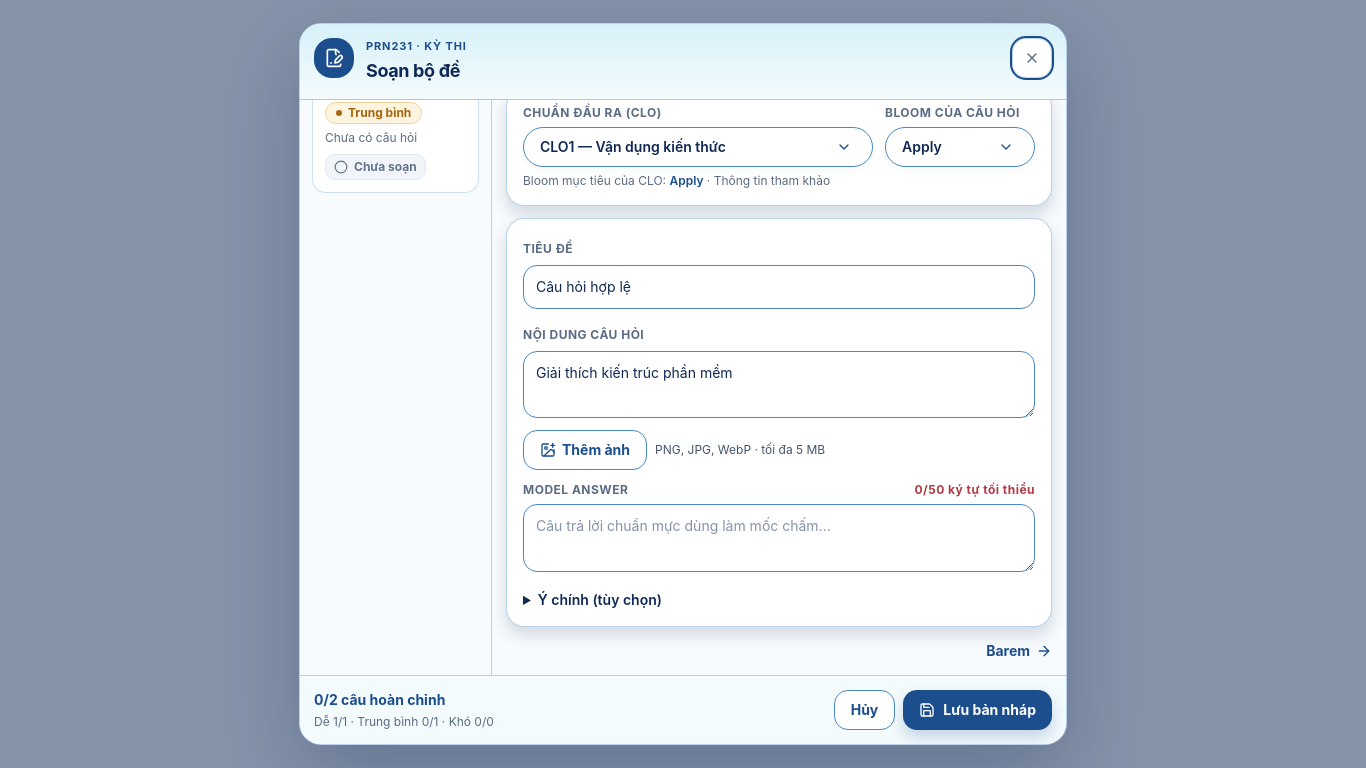
it: Soạn bộ đề với các tab cố định › validates each rubric criterion and reports errors beside fields after blur
Earlier steps of the test are not shown.
(page scrolled)
Type "Đáp án mẫu đầy đủ, giải thích khái niệm và đưa ra ví dụ thực tế rõ ràng." into the text box labelled "Model Answer" at [779, 538], box [523,504,1035,572]
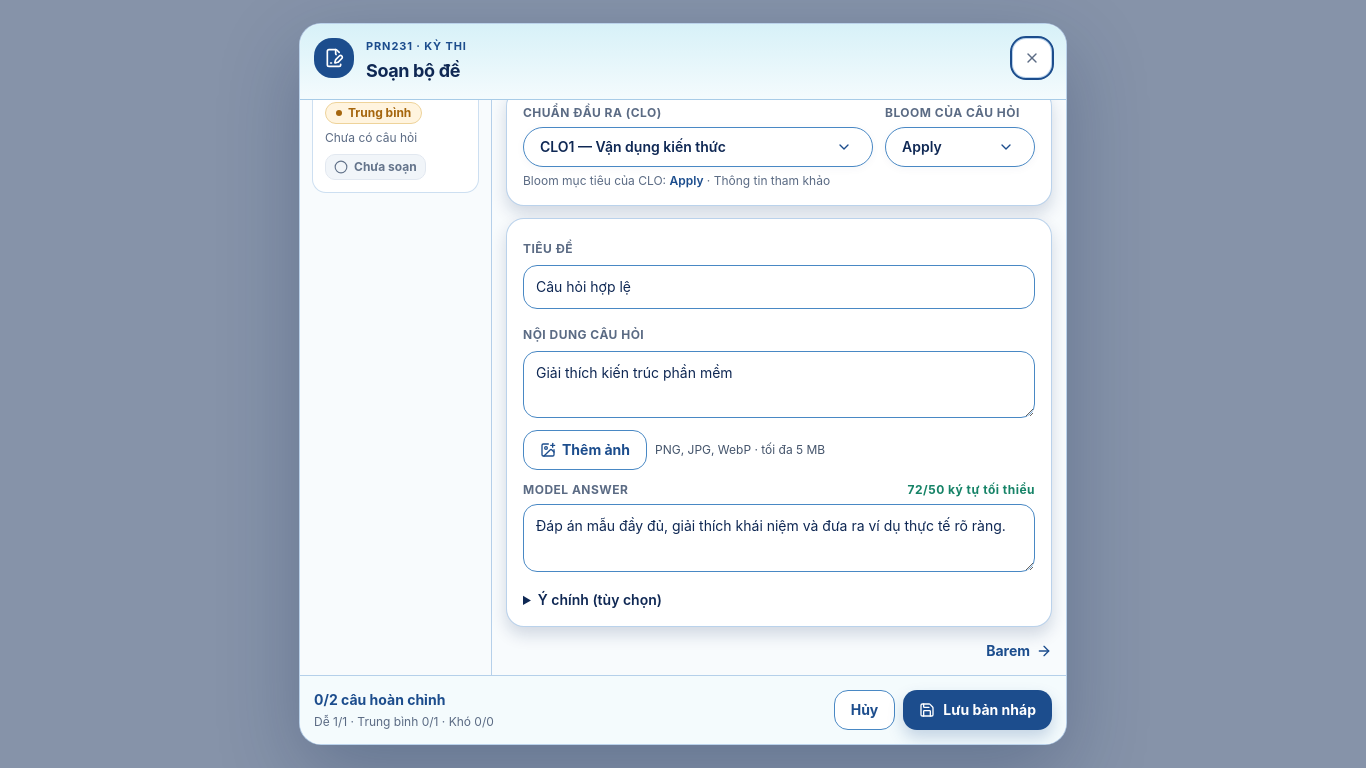
Click the button "Barem" at [1019, 650], box [986,634,1052,666]
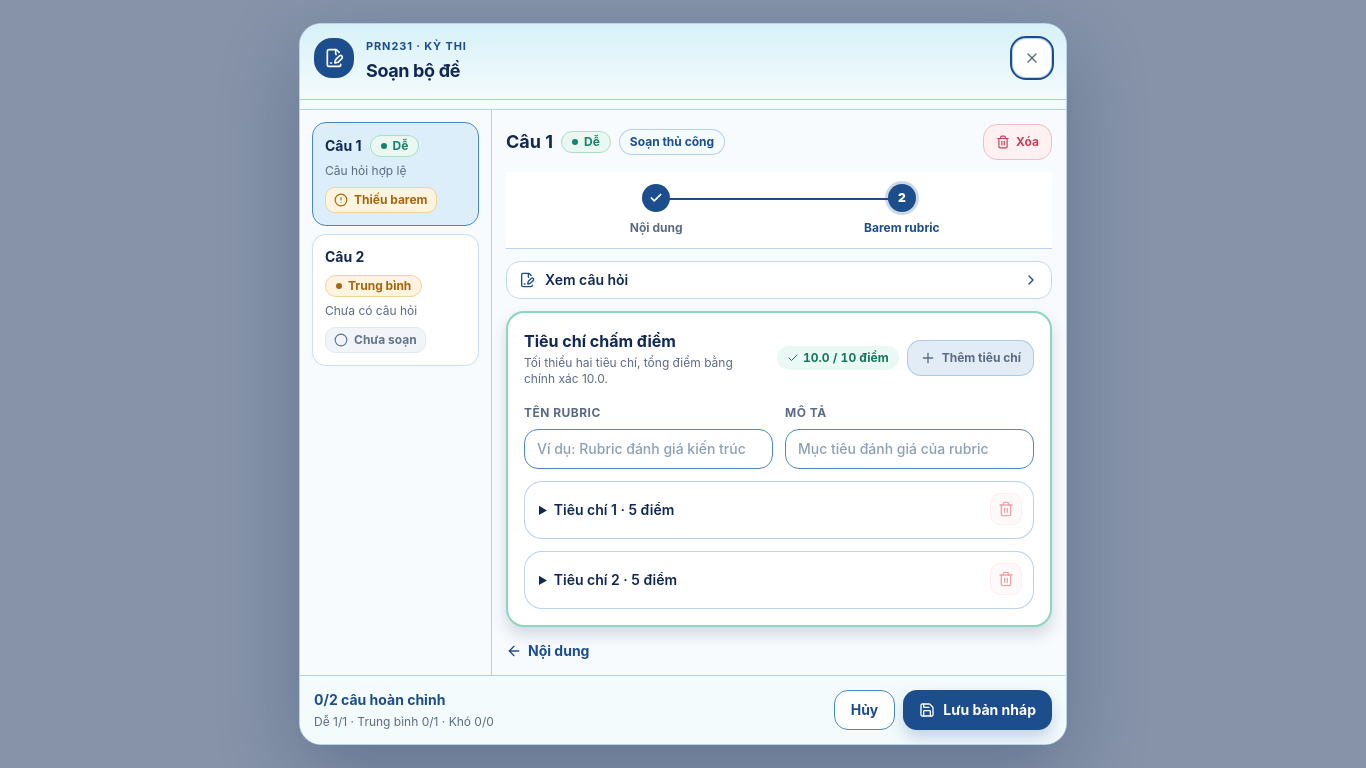
Leave the field labelled "Tên rubric", box [524,428,773,468]
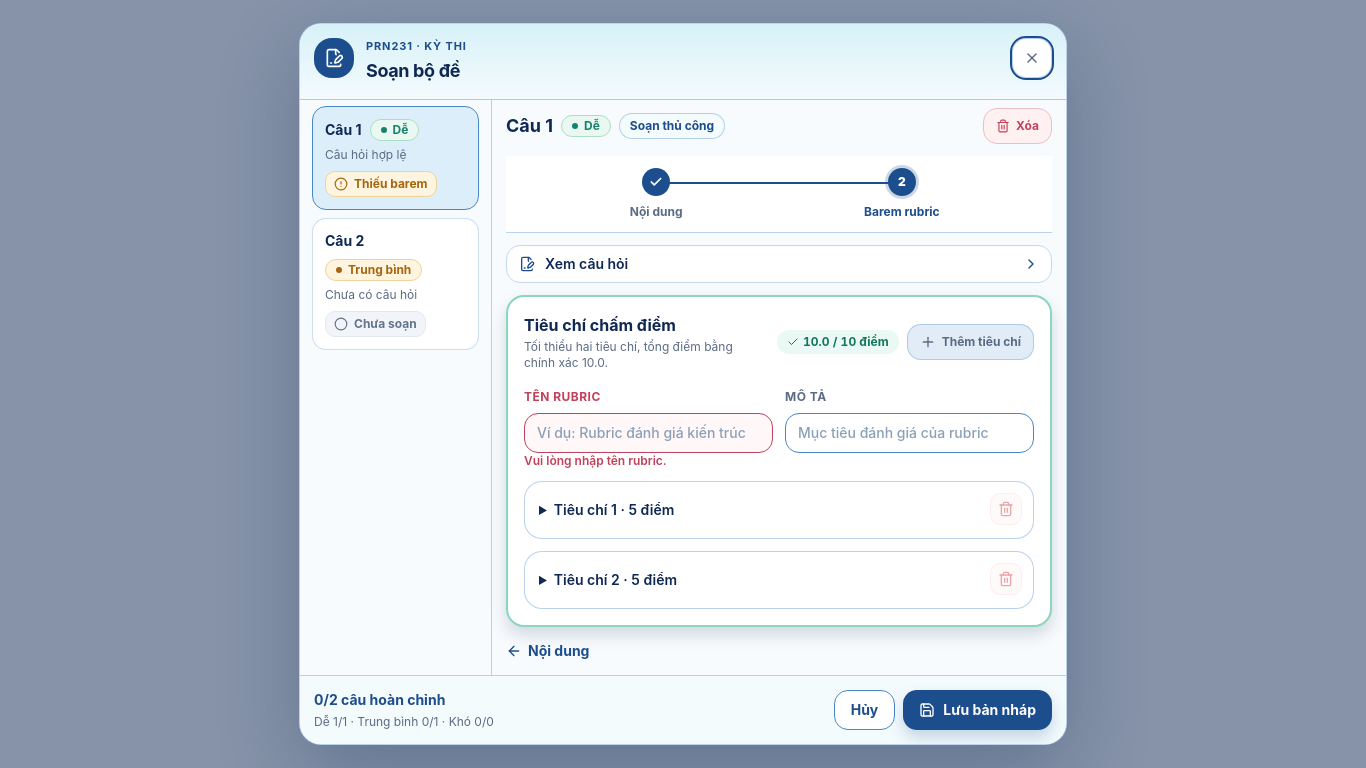
expect the text "Vui lòng nhập tên rubric." is shown: met, box [524,452,667,468]
Leave the field named "Tiêu chí 1", box [524,480,1034,538]
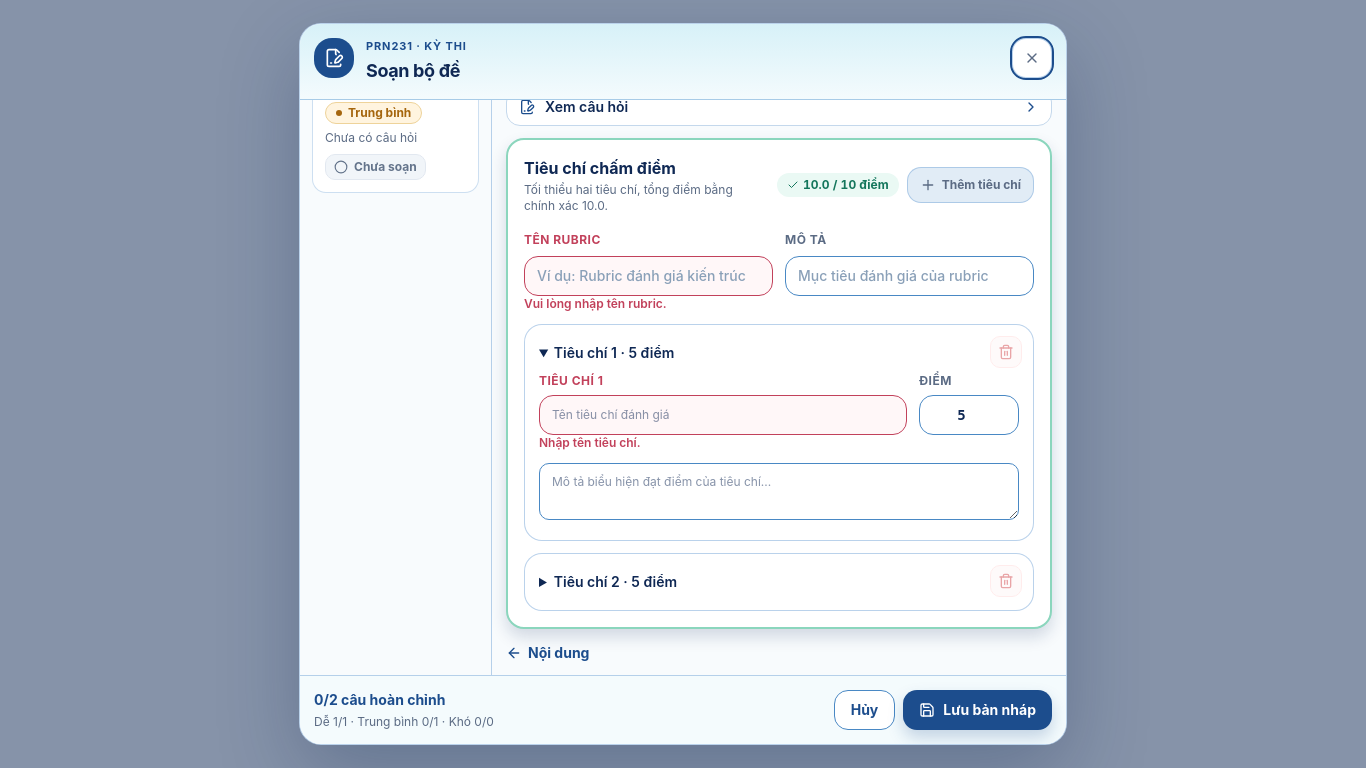
expect the text "Nhập tên tiêu chí." is shown: met, box [539,434,641,450]
Replace the text in the number field labelled "Điểm" with "11" at [969, 414], box [919,394,1019,434]
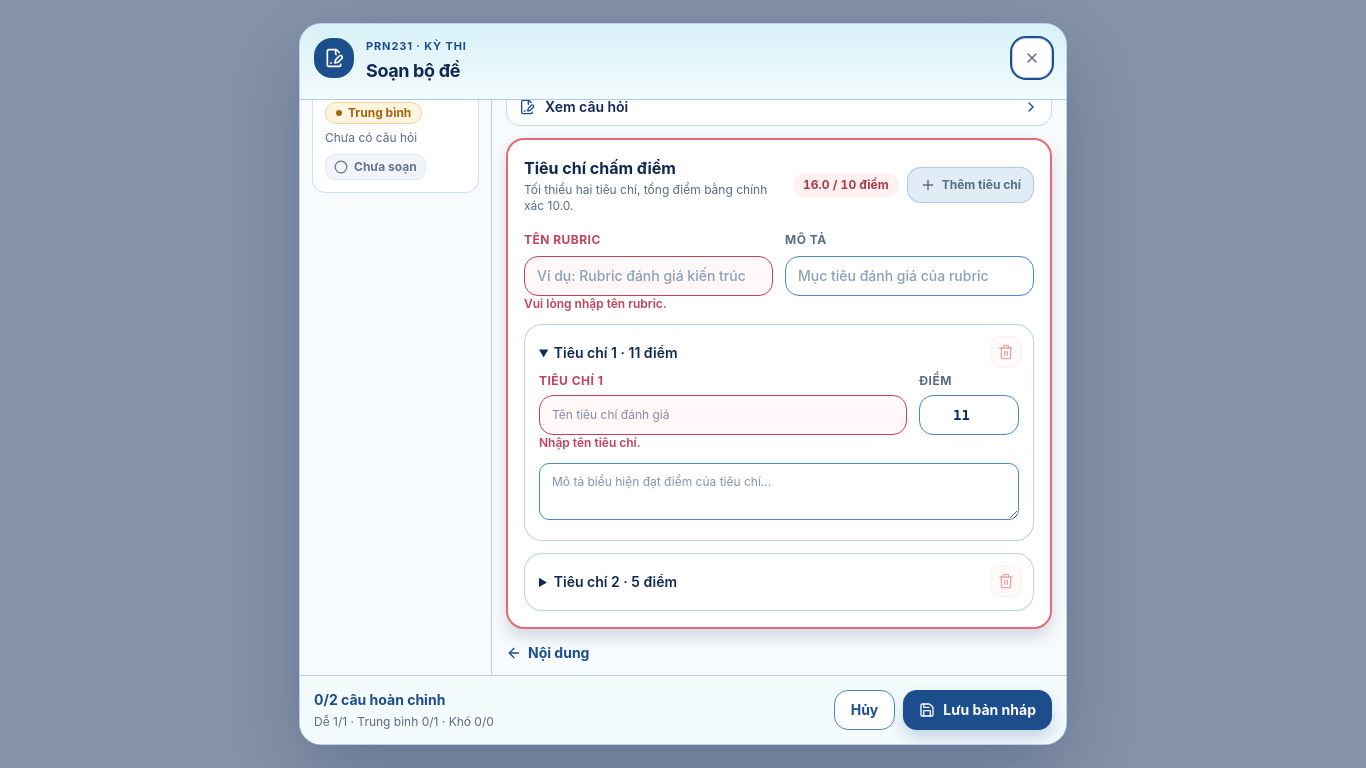
Leave the number field labelled "Điểm", box [919,394,1019,434]
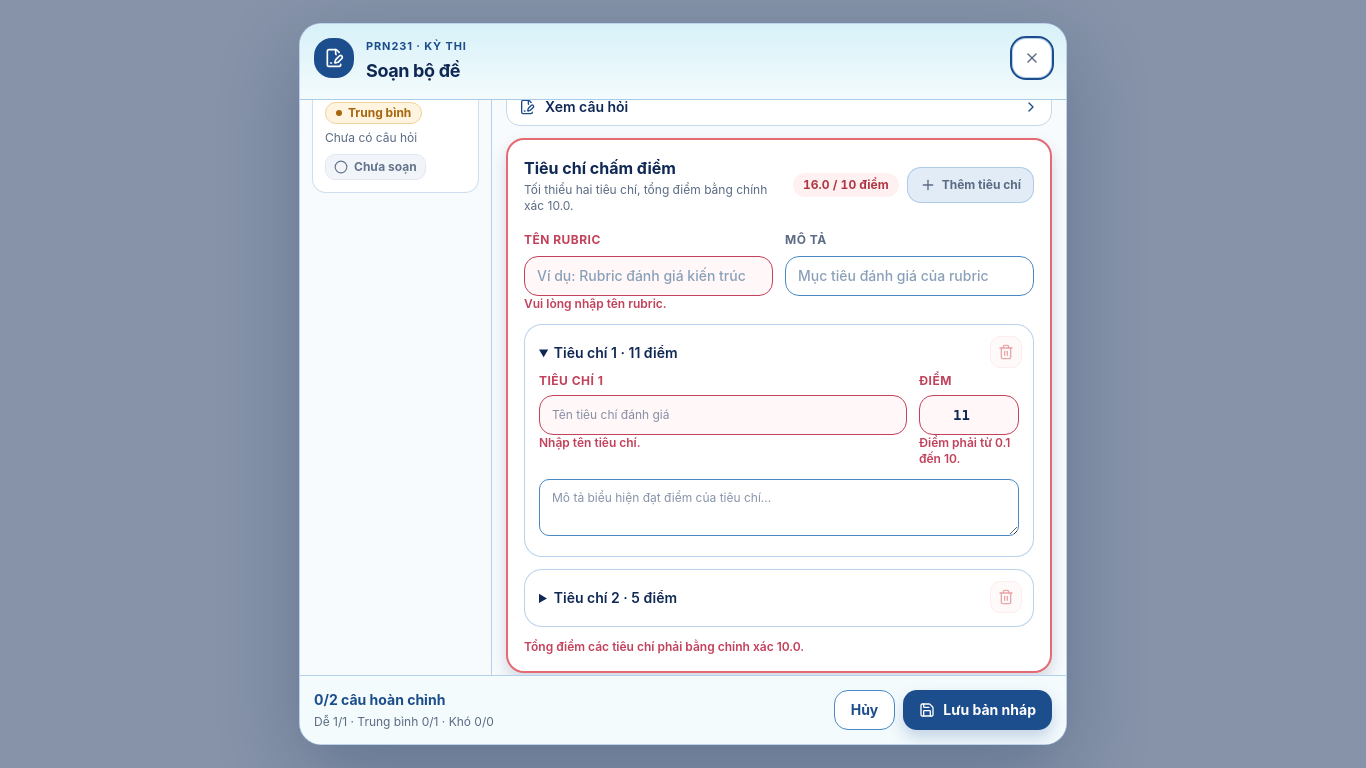
expect the text "Nhập tên tiêu chí." is shown: met, box [539,434,641,450]
expect the text "Điểm phải từ 0.1 đến 10." is shown: met, box [919,434,1019,466]
expect the text "Tổng điểm các tiêu chí phải bằng chính xác 10.0." is shown: met, box [524,638,804,654]
